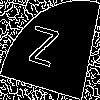Z: (25, 25, 60, 77)
